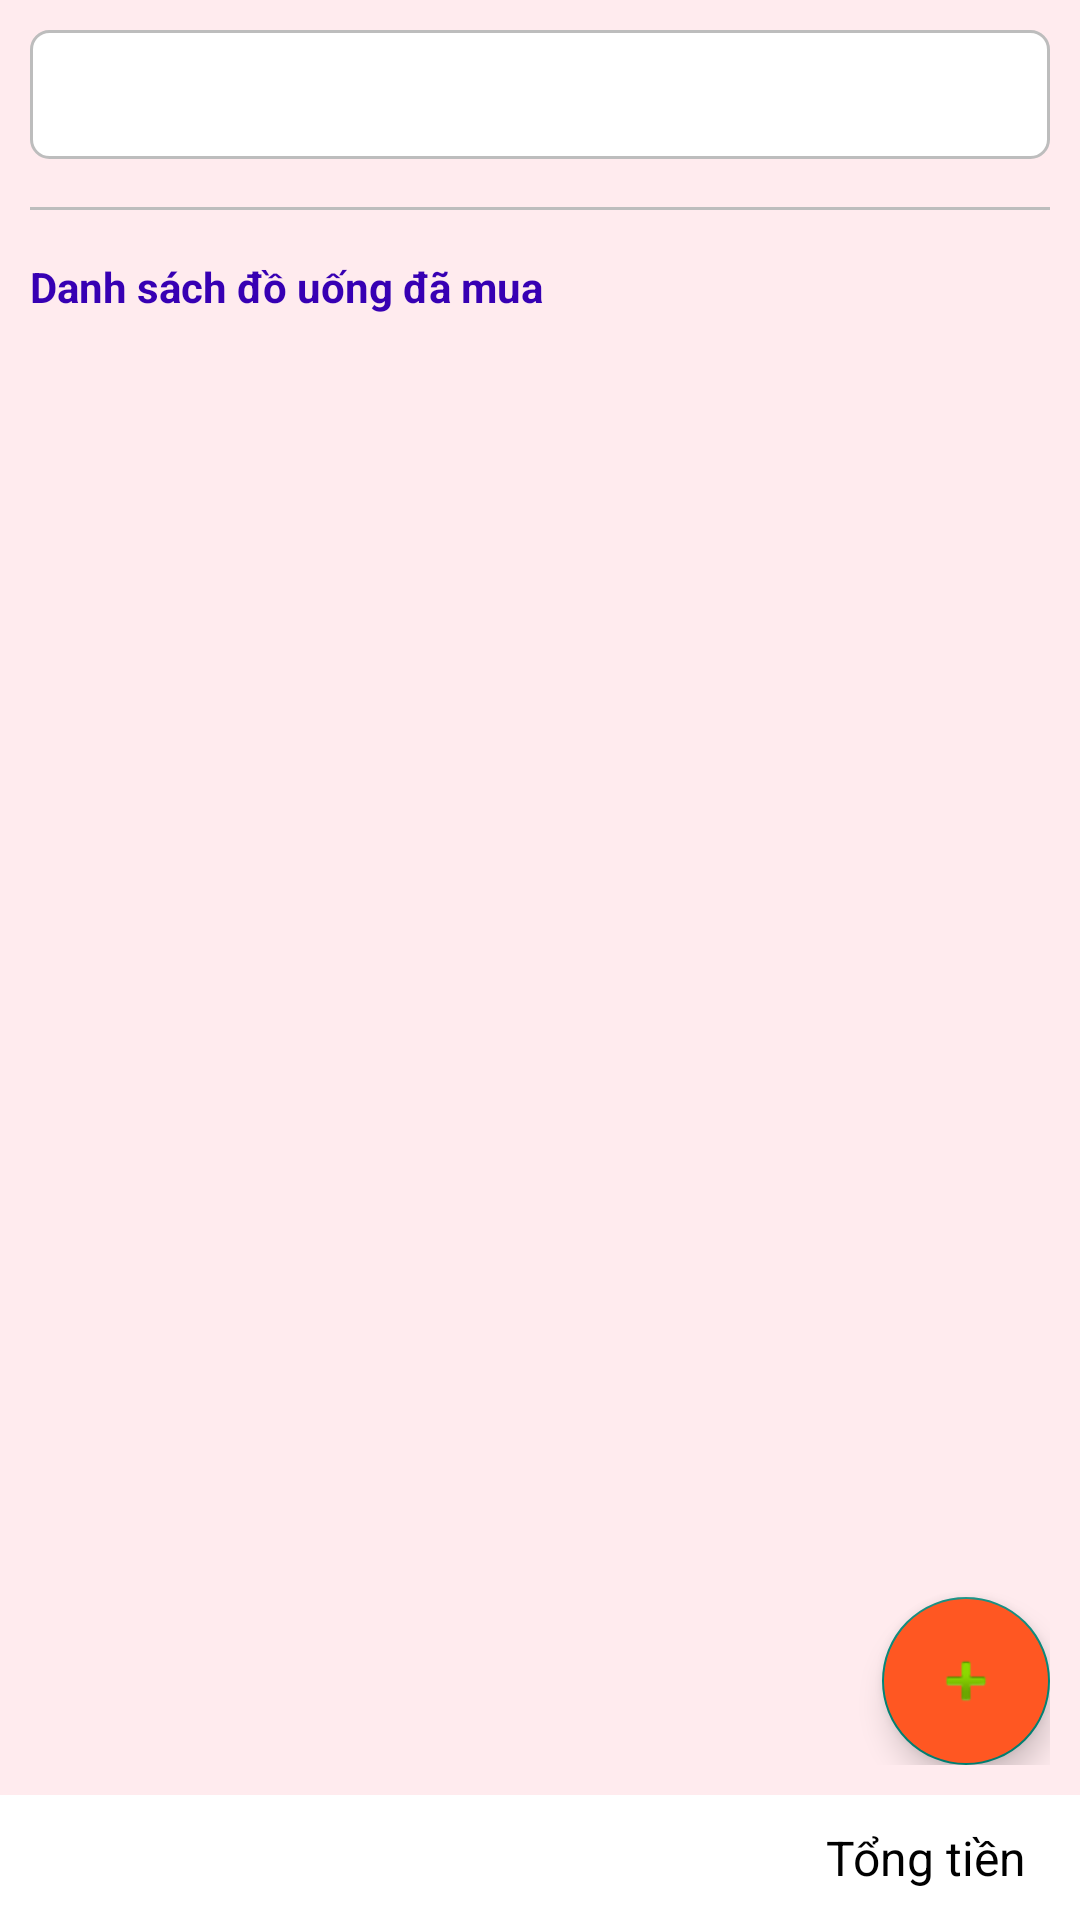

Screen size 1080px×1920px. Icon name, then its box in pixels as (x1, y1, x2, y2):
add: (882, 1597, 1050, 1765)
